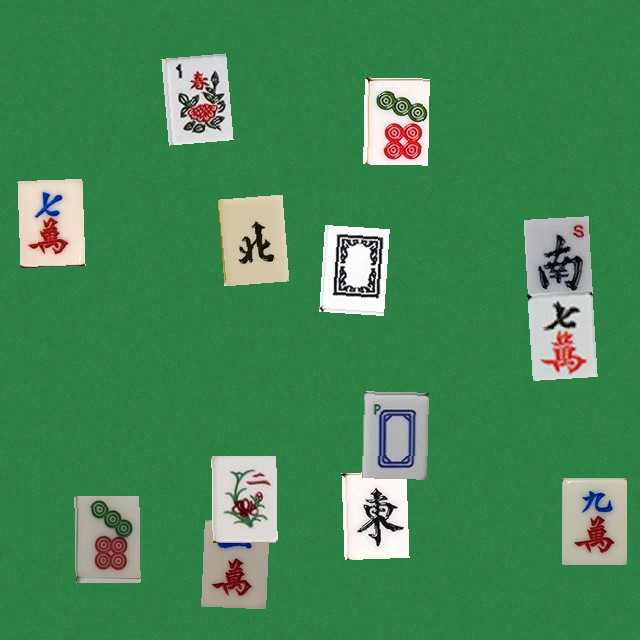tile: (319, 224, 384, 311), (363, 77, 428, 164), (201, 519, 266, 606), (341, 470, 406, 557), (17, 178, 82, 265), (161, 53, 226, 140), (217, 194, 282, 281), (361, 391, 426, 478), (523, 216, 588, 303), (527, 290, 592, 377), (211, 455, 276, 542), (561, 477, 626, 564), (74, 495, 139, 582)
